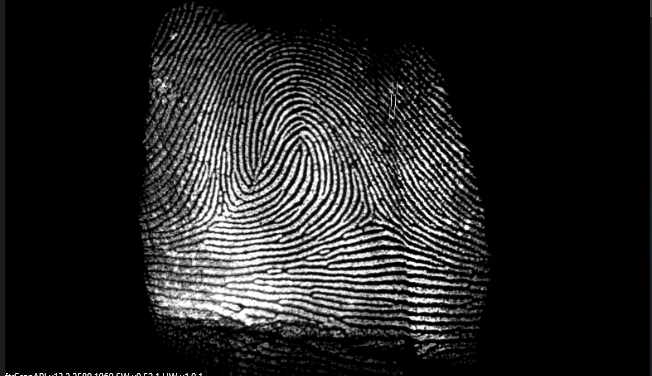deltas: (198, 183, 245, 235), (356, 187, 399, 239)
nucleo: (261, 126, 321, 178)
